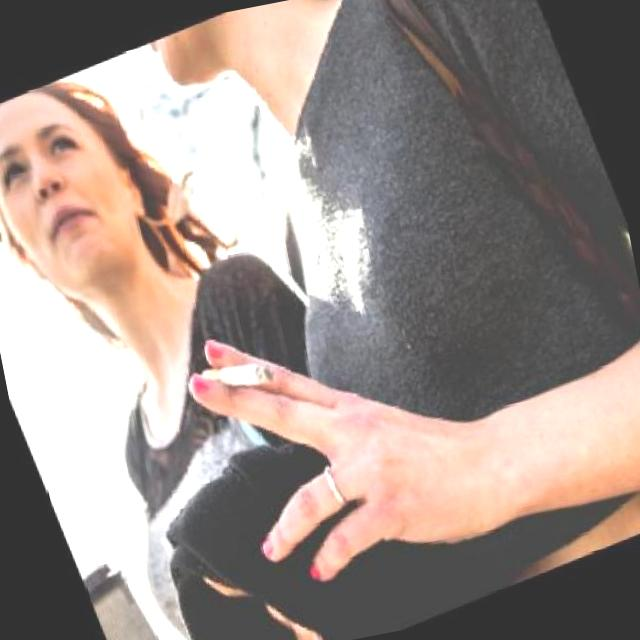smoke: (189, 346, 280, 415)
